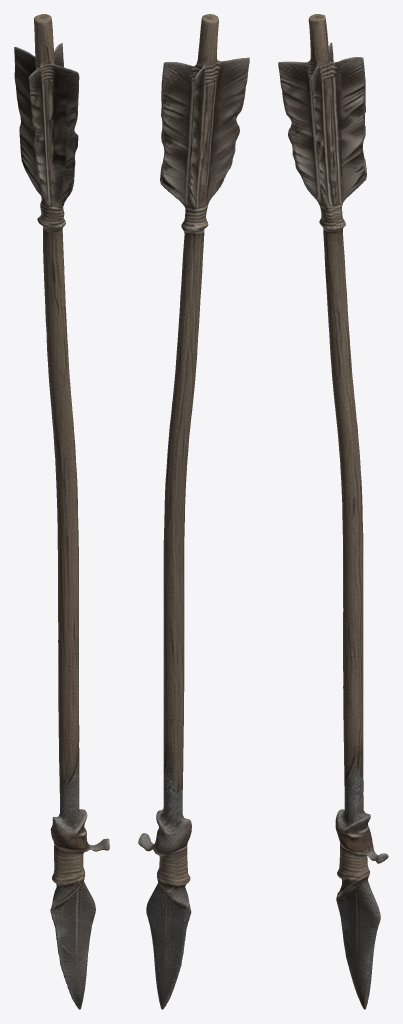
File: flecha.glb
3 views of the same model, side by side, from view 1: azimuth 30°, elevation 25°; view 2: azimuth 150°, elevation 25°; view 3: azimuth 330°, elevation 25° (orthographic). The views are drawn at different scales.
Size of the model in its own units: 0.1864 by 1.9 by 0.1494.
Materials: 1 (1 with a texture image).
